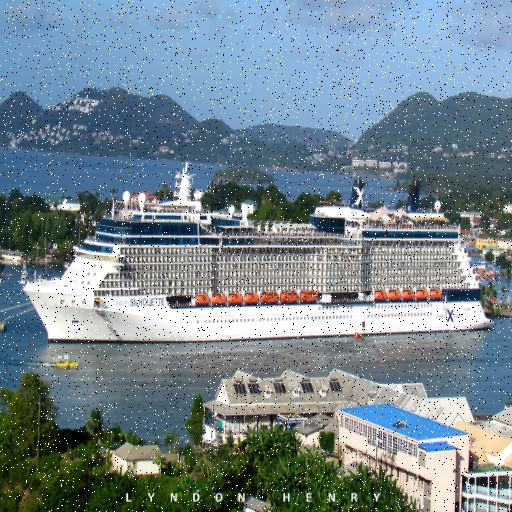cruises: (25, 154, 507, 350)
